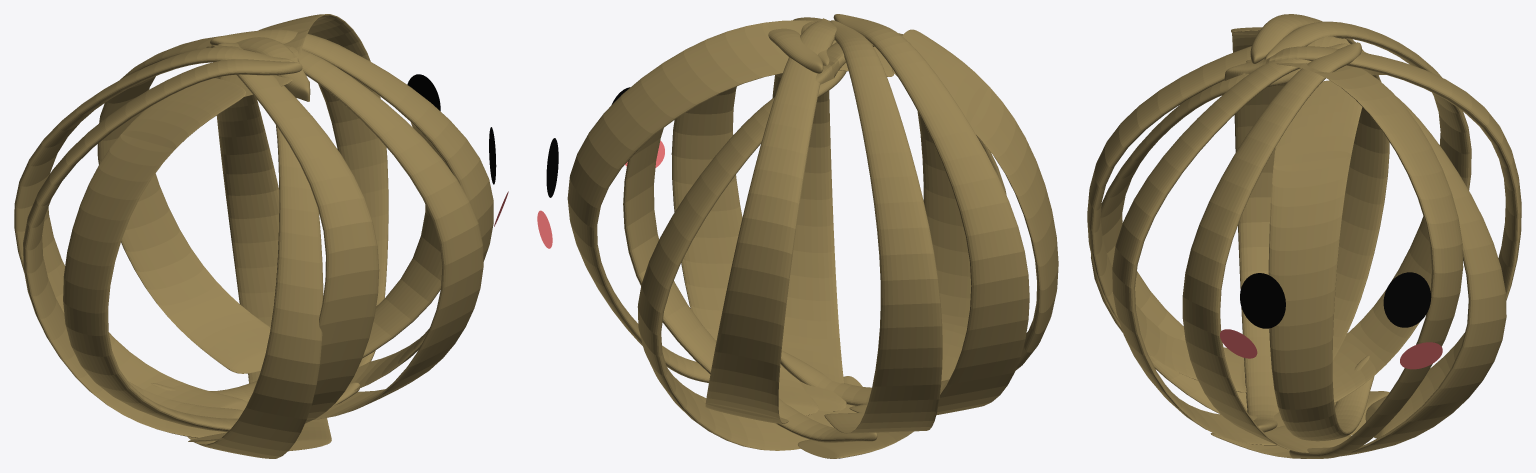
File: SM_Tumbleweed.fbx
3 views of the same model, side by side, from view 1: azimuth 30°, elevation 25°; view 2: azimuth 150°, elevation 25°; view 3: azimuth 270°, elevation 25° (orthographic). The views are drawn at different scales.
Visible parts, largest first — view 1: Plane.076, Plane.085; view 2: Plane.076, Plane.085; view 3: Plane.076, Plane.085, Plane.084, Plane.087, Plane.086.
Boxes of the visible parts, x1=… form: Plane.076: x1=14, y1=14, x2=493, y2=458; Plane.085: x1=407, y1=74, x2=440, y2=110; Plane.076: x1=567, y1=14, x2=1058, y2=458; Plane.085: x1=546, y1=138, x2=558, y2=197; Plane.076: x1=1087, y1=14, x2=1521, y2=458; Plane.085: x1=1383, y1=272, x2=1431, y2=327; Plane.084: x1=1240, y1=273, x2=1285, y2=328; Plane.087: x1=1400, y1=342, x2=1442, y2=369; Plane.086: x1=1220, y1=329, x2=1257, y2=358.
Size of the model in its own units: 259 by 222 by 218.
